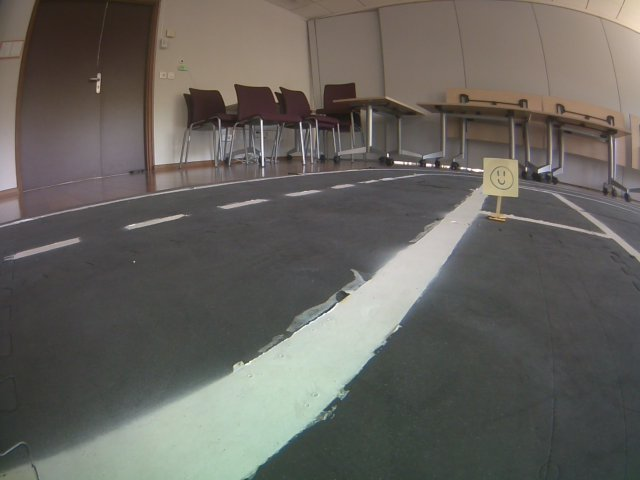Smiley: (480, 155, 520, 199)
